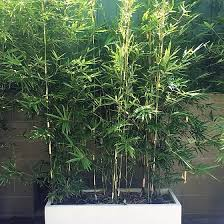bamboo: (105, 3, 215, 195), (3, 3, 101, 189)
